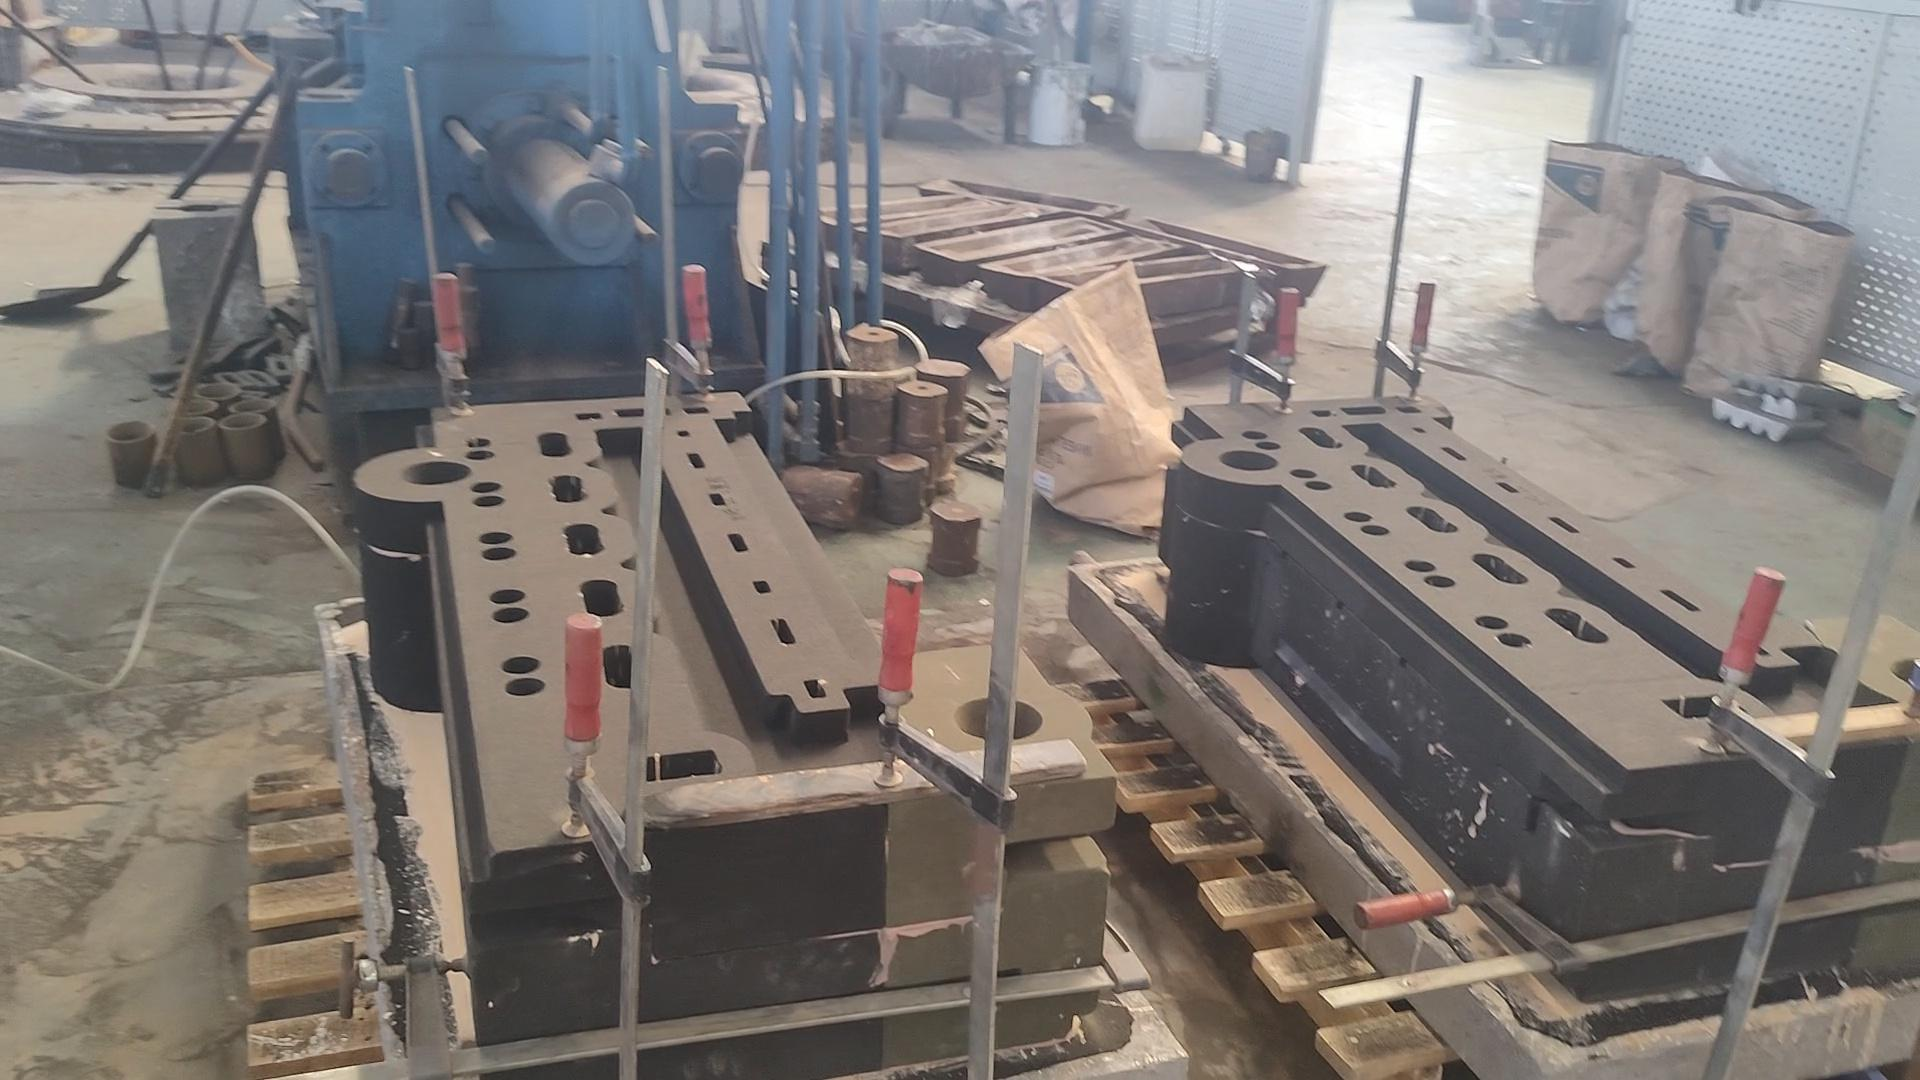pouring hole: (952, 698, 1044, 741), (400, 460, 473, 487), (1217, 447, 1280, 472), (104, 419, 156, 443), (1888, 653, 1920, 691), (219, 411, 266, 430), (169, 417, 214, 434), (194, 382, 239, 400), (229, 397, 276, 411), (175, 400, 216, 415)
